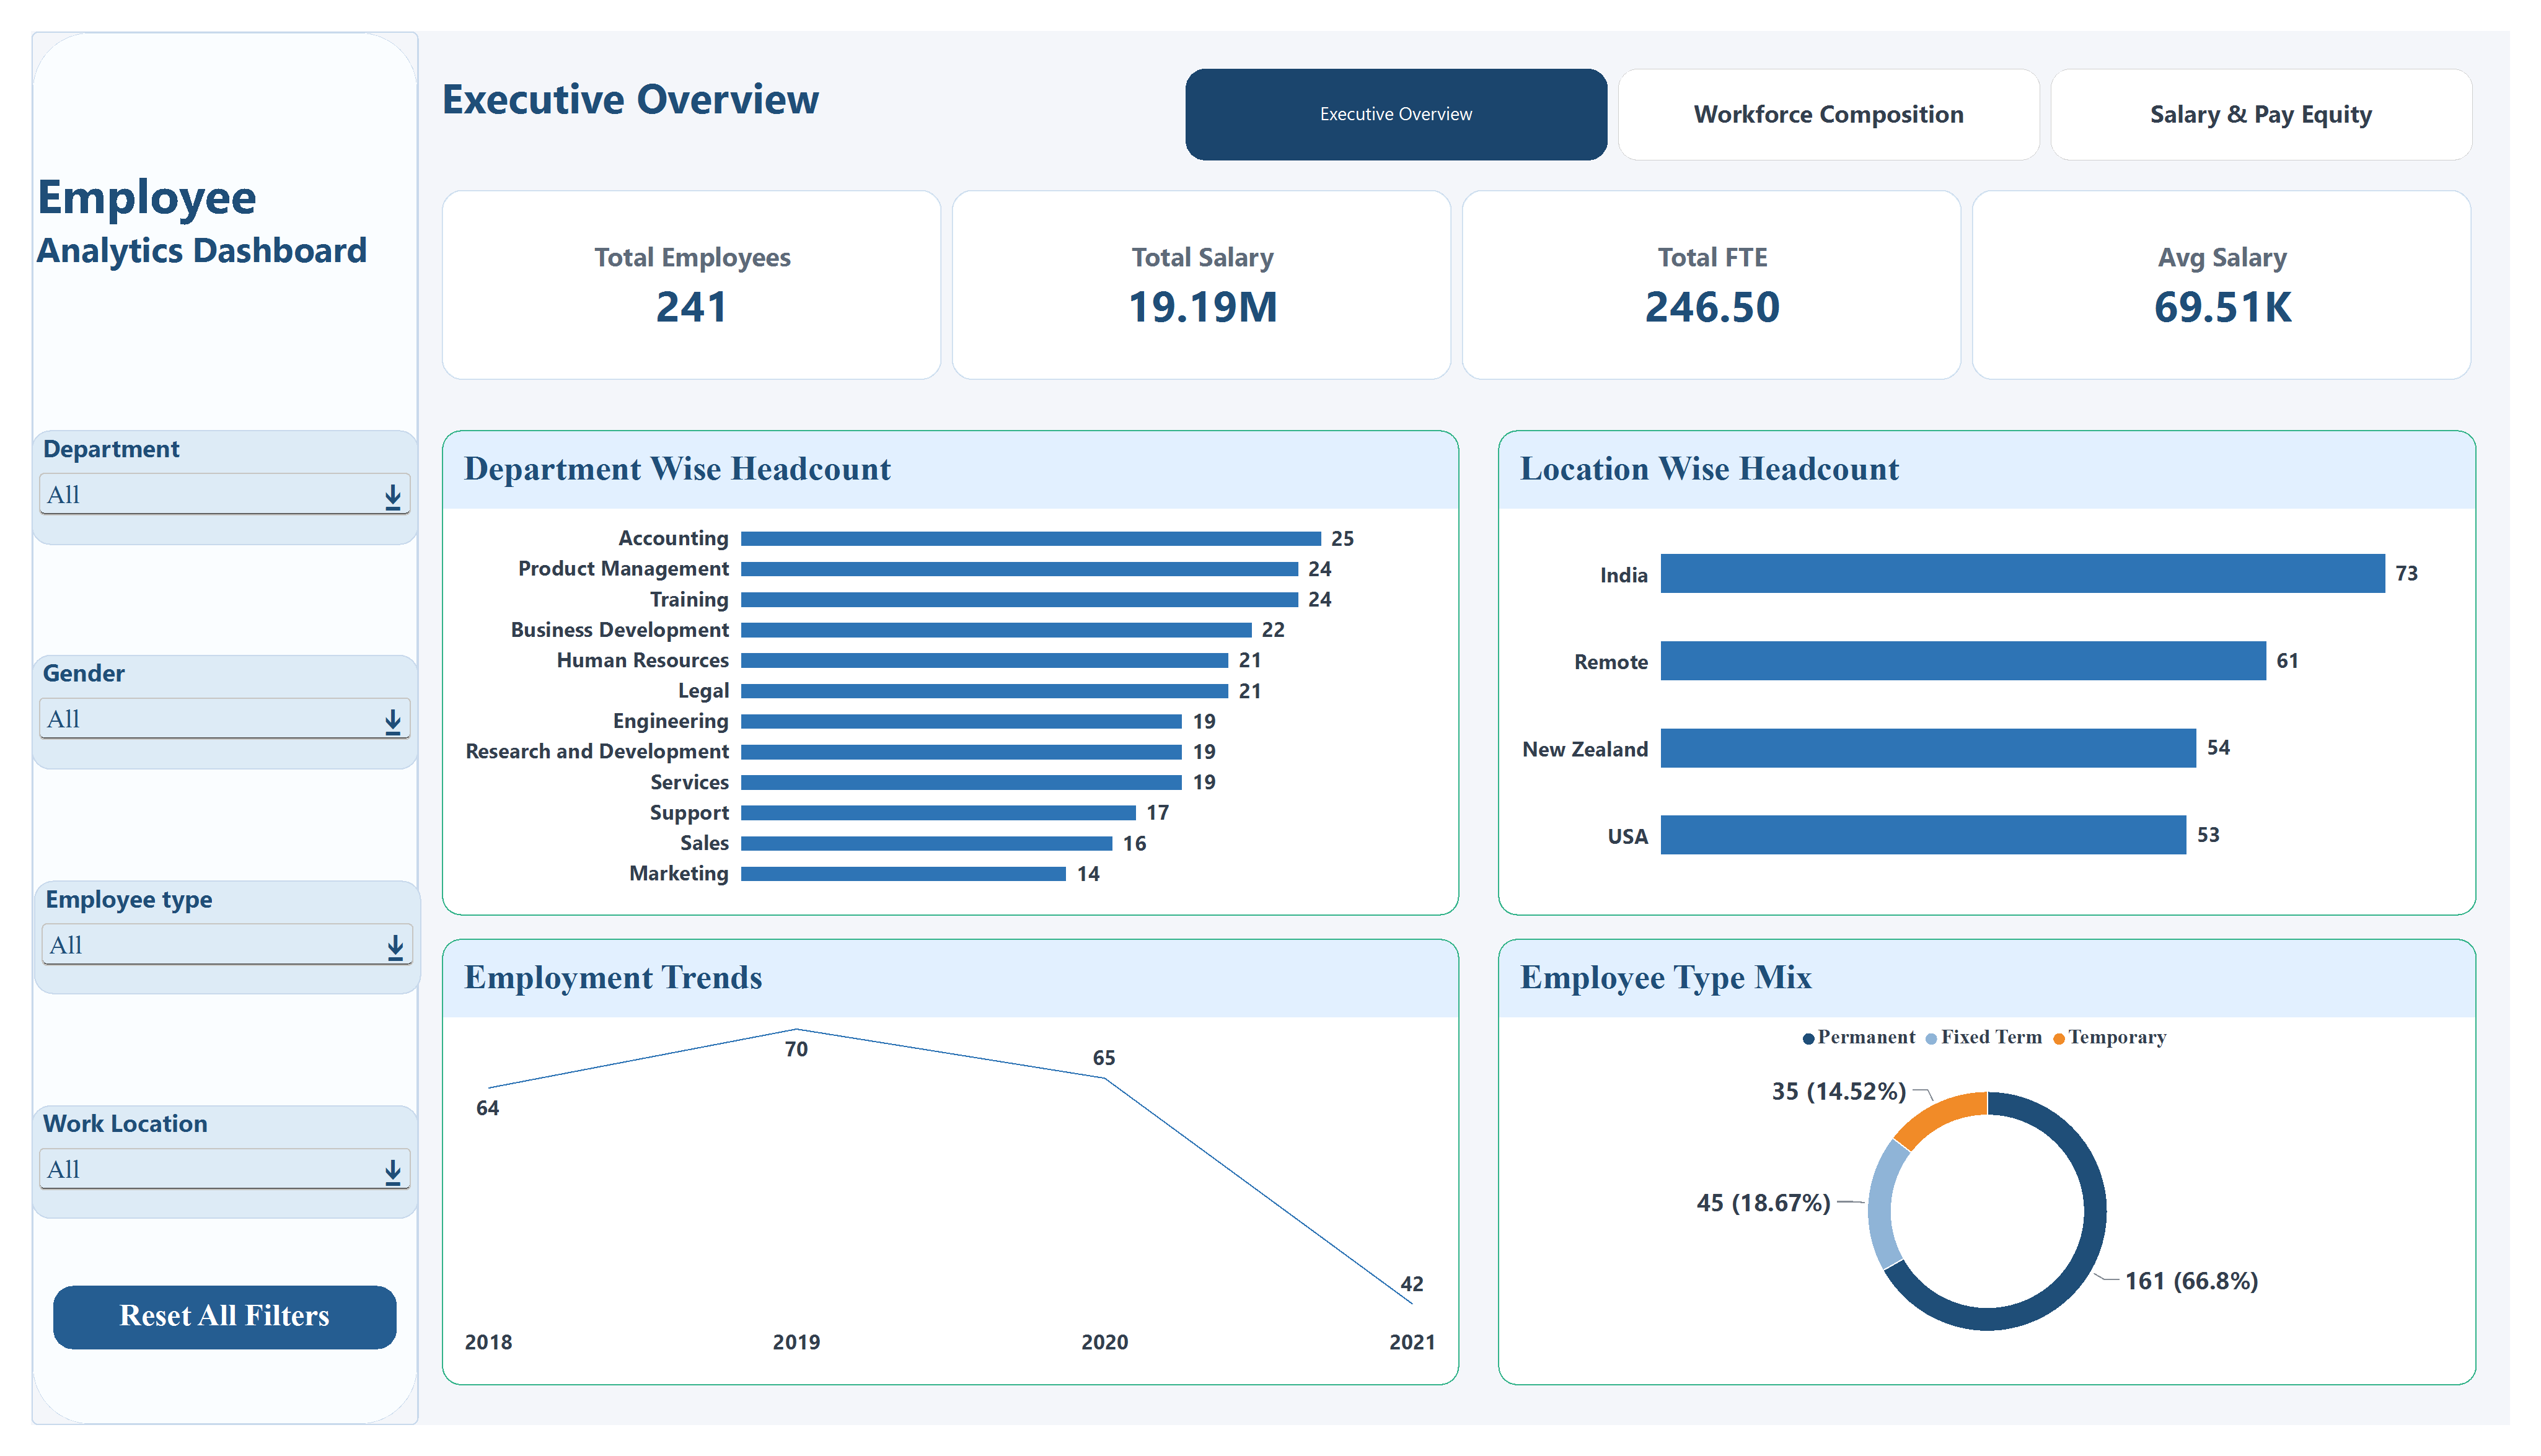

Layout of this report page (visuals, bound fields, positions):
{"tool":"powerbi","page":{"name":"Executive Overview","canvas":[1920,1080],"ordinal":0},"visuals":[{"type":"cardVisual","fields":{"Data":["Table.Total Empl","Table.Total Salary","Table.Total FTE","Table.Avg Salary"]},"box":[318.4,123.3,1575.5,147.2],"z":0},{"type":"shape","box":[0,0,300,1080.4],"z":1000},{"type":"barChart","title":"Department Wise Headcount ","fields":{"Category":["Employees Data.Department"],"Y":["Table.Total Empl"]},"box":[318.4,309.2,787.7,375.5],"z":2000},{"type":"donutChart","title":"Employee Type Mix","fields":{"Category":["Employees Data.Employee type"],"Y":["Table.Total Empl"]},"box":[1135.6,703.1,758.3,346],"z":3000},{"type":"barChart","title":"Location Wise Headcount","fields":{"Category":["Employees Data.Work Locationm"],"Y":["Table.Total Employees"]},"box":[1135.6,309.2,758.3,375.5],"z":4000},{"type":"textbox","box":[318.4,29.4,300,71.8],"z":5000},{"type":"slicer","fields":{"Values":["Employees Data.Department"]},"box":[0,309.2,300,88.3],"z":6000},{"type":"slicer","fields":{"Values":["Employees Data.Employee type"]},"box":[1.8,657.7,300,88.3],"z":7000},{"type":"slicer","fields":{"Values":["Employees Data.Gender"]},"box":[0,483.4,300,88.3],"z":8000},{"type":"slicer","fields":{"Values":["Employees Data.Work Locationm"]},"box":[0,831.9,300,88.3],"z":9000},{"type":"lineChart","title":"Employment Trends","fields":{"Category":["Employees Data.Start Year"],"Y":["Table.Total Employees"]},"box":[318.4,703.1,787.7,346],"z":10000},{"type":"textbox","box":[3.7,101.2,298.2,169.3],"z":11000},{"type":"pageNavigator","box":[894.5,29.4,999.4,71.8],"z":12000},{"type":"actionButton","box":[16.6,971.8,266.9,49.7],"z":13000}]}

Visuals, with their boxes on the page's 1920x1080 design canvas (x1, y1, x2, y2). These are canvas units, not pixel positions in the 2541x1456 screenshot, which may show the page scaled, cropped or inside an application window:
cardVisual - Table.Total Empl x Table.Total Salary: detection(318, 123, 1894, 270)
shape: detection(0, 0, 300, 1080)
"Department Wise Headcount " barChart: detection(318, 309, 1106, 685)
"Employee Type Mix" donutChart: detection(1136, 703, 1894, 1049)
"Location Wise Headcount" barChart: detection(1136, 309, 1894, 685)
textbox: detection(318, 29, 618, 101)
slicer - Employees Data.Department: detection(0, 309, 300, 398)
slicer - Employees Data.Employee type: detection(2, 658, 302, 746)
slicer - Employees Data.Gender: detection(0, 483, 300, 572)
slicer - Employees Data.Work Locationm: detection(0, 832, 300, 920)
"Employment Trends" lineChart: detection(318, 703, 1106, 1049)
textbox: detection(4, 101, 302, 270)
pageNavigator: detection(894, 29, 1894, 101)
actionButton: detection(17, 972, 284, 1022)
